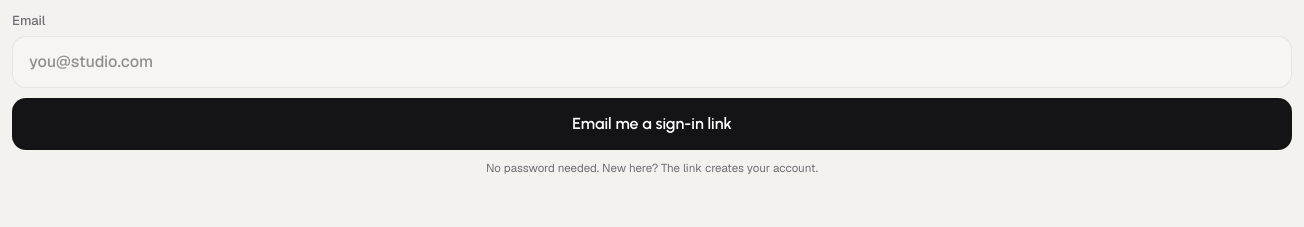
SignInForm › sends a magic link and asks the person to check their email
Type "hello@northbay.studio" into the field labelled "Email" at (652, 62), box [12,36,1292,88]
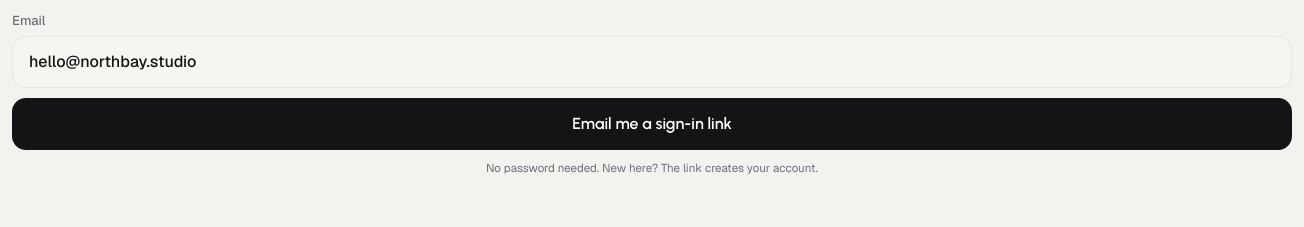
Click the button "Email me a sign-in link" at (652, 124), box [12,98,1292,150]
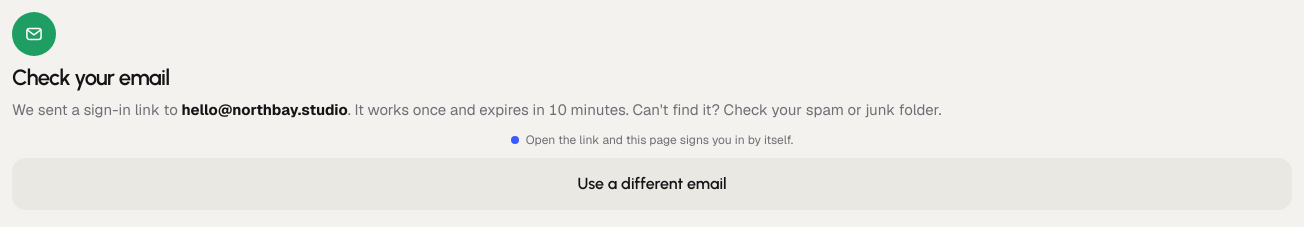
Now the heading "Check your email" is shown, box [12,64,169,91]
Now the text "Check your spam or junk folder" is shown, box [348,100,941,119]
Now the text "hello@northbay.studio" is shown, box [182,100,348,119]
